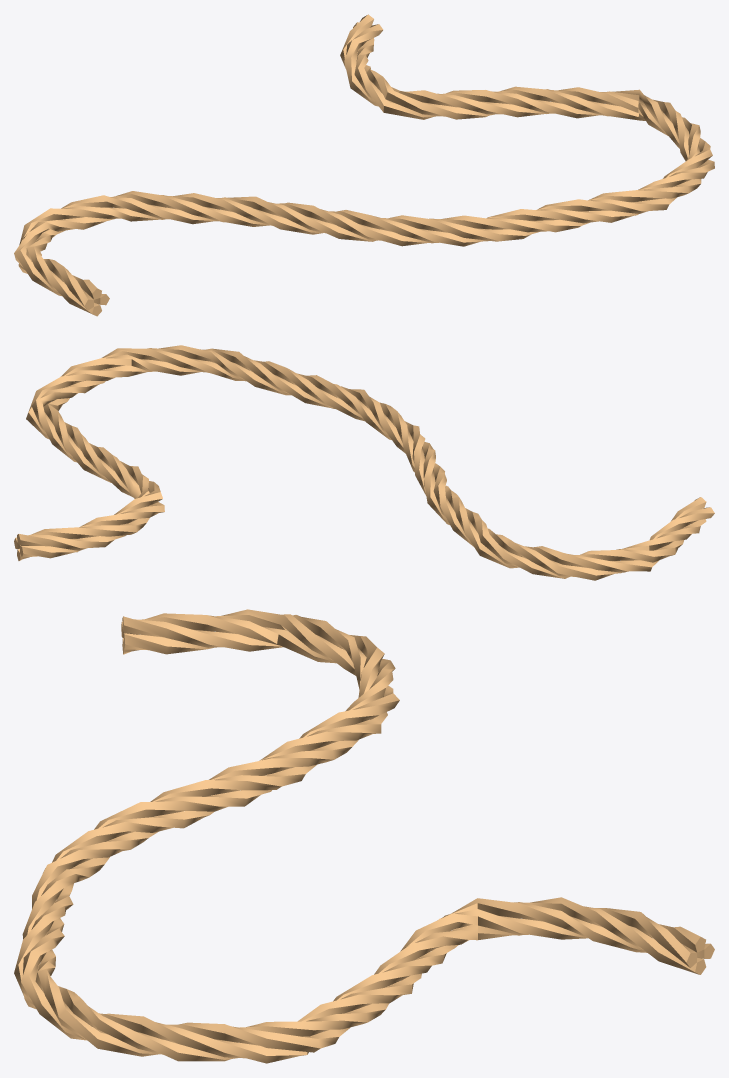
Rendered from Four_Side_Rope_CurvedExtended.fbx.
3 renders of one model, top to bottom at view 1: azimuth 30°, elevation 25°; view 2: azimuth 150°, elevation 25°; view 3: azimuth 270°, elevation 25°, orthographic. The views are drawn at different scales.
Parts seen in each view (by area): view 1: sweep10; view 2: sweep10; view 3: sweep10.
Part boxes in pixels (x1=…): sweep10: x1=14, y1=14, x2=714, y2=316; sweep10: x1=14, y1=345, x2=714, y2=580; sweep10: x1=14, y1=609, x2=714, y2=1063.
Size of the model in its own units: 49 by 2.05 by 33.84.
1 material, 1 textured.
